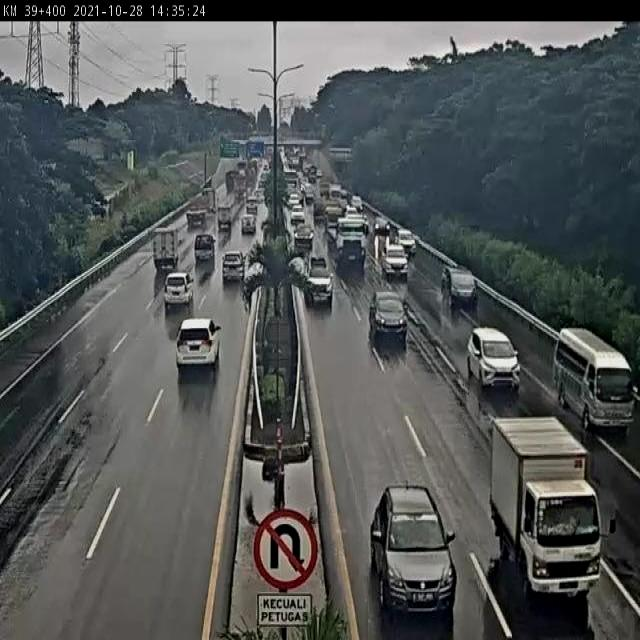Bus: (554, 326, 635, 432)
Car: (370, 485, 461, 611), (468, 328, 523, 391), (175, 319, 221, 364), (370, 292, 408, 335), (442, 264, 478, 307), (306, 257, 336, 304), (166, 274, 193, 304), (222, 251, 245, 281), (385, 246, 407, 275), (195, 234, 215, 260), (396, 230, 416, 253), (296, 225, 313, 247), (330, 184, 348, 204), (374, 217, 391, 235), (314, 203, 328, 223), (304, 184, 318, 204), (241, 215, 256, 232), (291, 205, 306, 222), (351, 196, 364, 213), (246, 198, 258, 214), (289, 194, 300, 207), (316, 168, 324, 182)
Truck: (493, 418, 601, 596), (328, 208, 369, 266), (218, 161, 245, 225), (153, 227, 178, 265), (186, 198, 208, 225)
